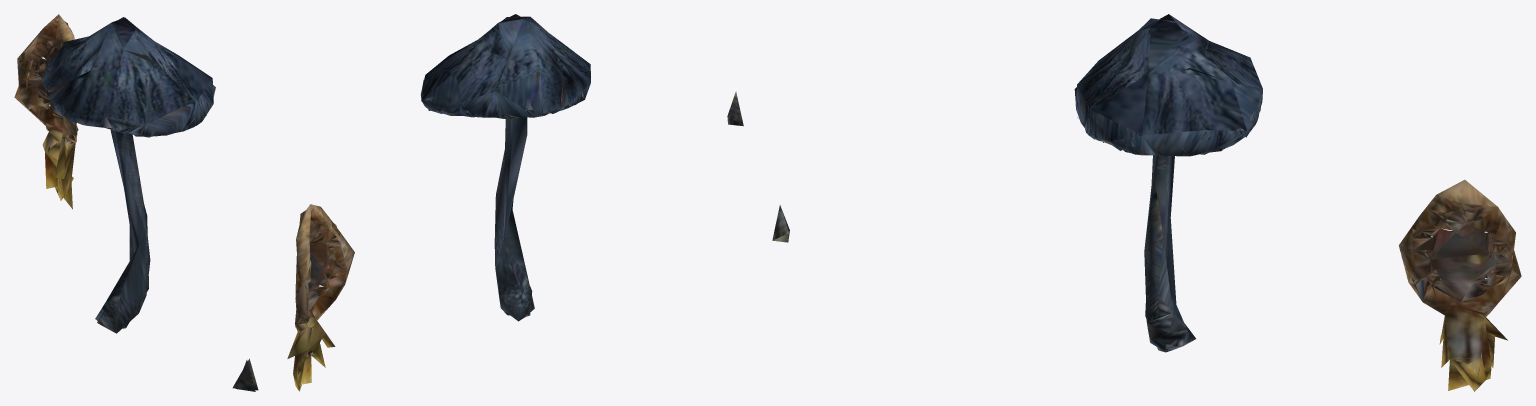
The model's file is cogu_guarda_chuva_noturno.glb.
The picture shows the model from 3 angles, left to right: view 1: azimuth 30°, elevation 25°; view 2: azimuth 150°, elevation 25°; view 3: azimuth 270°, elevation 25°; orthographic projection. The views are drawn at different scales.
Parts seen in each view (by area): view 1: geometry_0; view 2: geometry_0; view 3: geometry_0.
Boxes of the visible parts, <box> form: geometry_0: <box>14,14,258,391</box>; geometry_0: <box>287,14,743,391</box>; geometry_0: <box>772,14,1521,391</box>.
Size of the model in its own units: 0.25 by 0.4919 by 1.
Materials: 1 (1 with a texture image).
